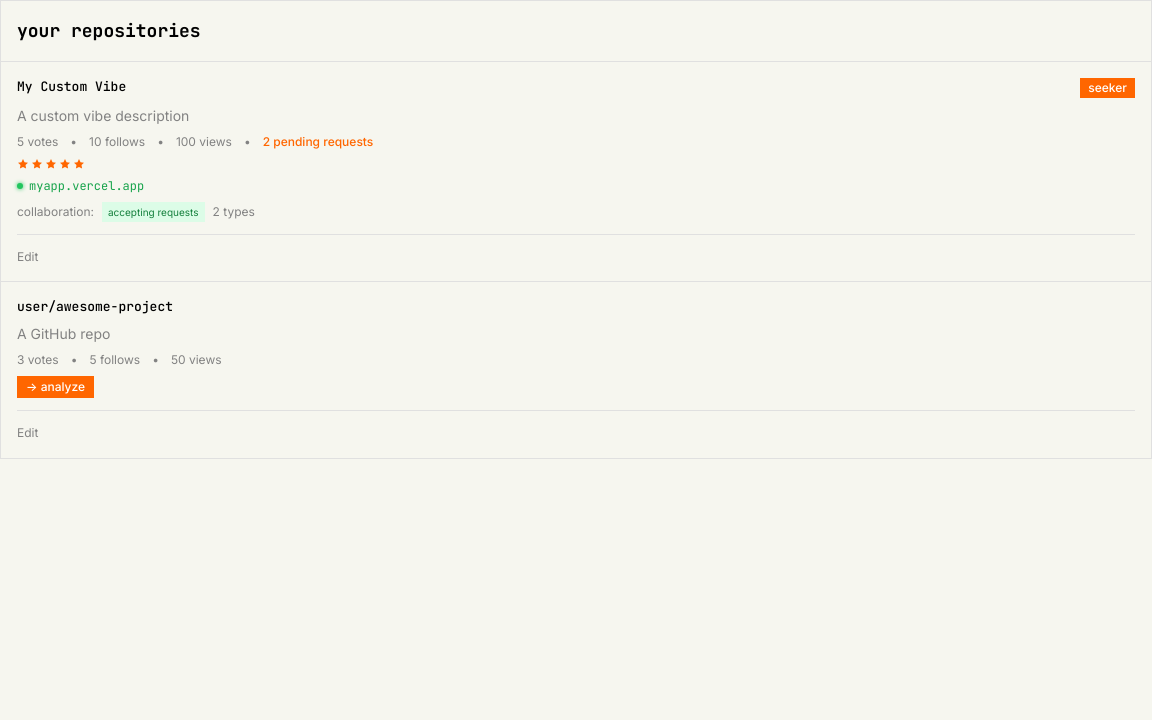
it: RepositoryList › Edit Button and Modal › should open modal for different repositories independently
This screenshot has width=1152, height=720.
Click first edit button
Click the button "Edit" below "collaboration:": click(28, 257) [17, 249, 38, 265]
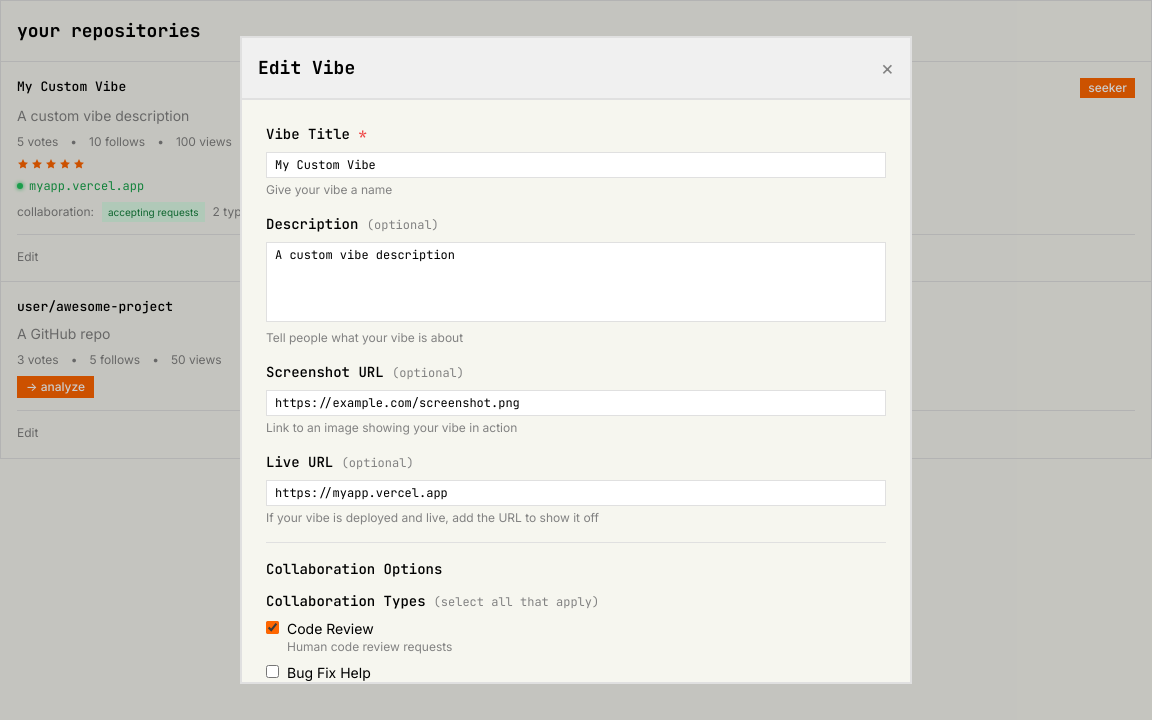
Expected: the heading "Edit Vibe" is shown, [258, 54, 355, 82]
Expected: the field showing "My Custom Vibe" below "Vibe Title" is shown, [266, 152, 886, 178]
Close and open second
Click the button named "Close": click(887, 68) [881, 58, 894, 78]
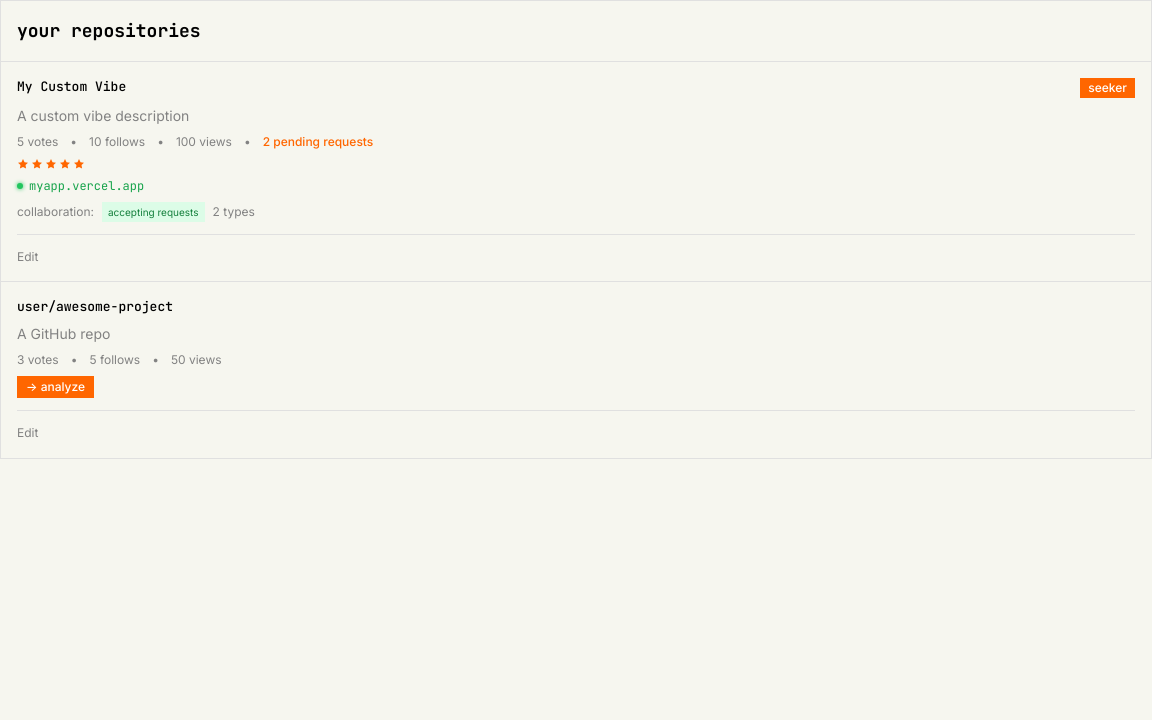
Expected: the heading "Edit Vibe" is gone
Click the button "Edit" below "50": click(28, 433) [17, 425, 38, 441]
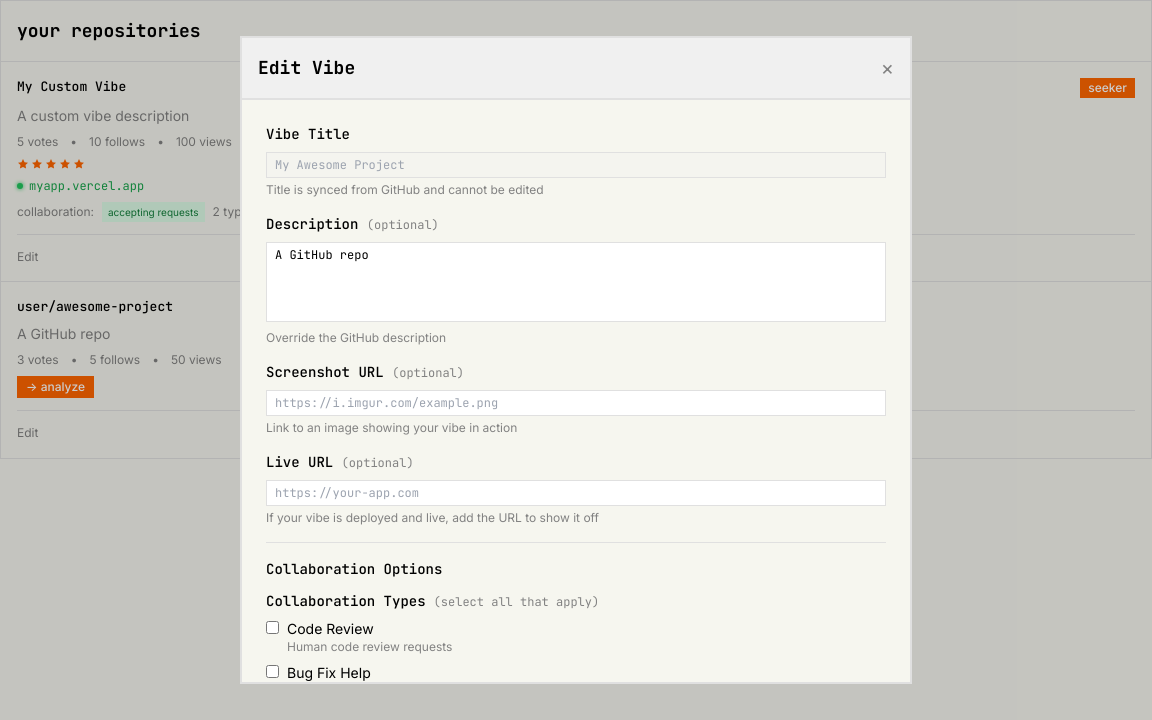
Expected: the heading "Edit Vibe" is shown, [258, 54, 355, 82]
Expected: the text box showing "A GitHub repo" is shown, [266, 242, 886, 322]
